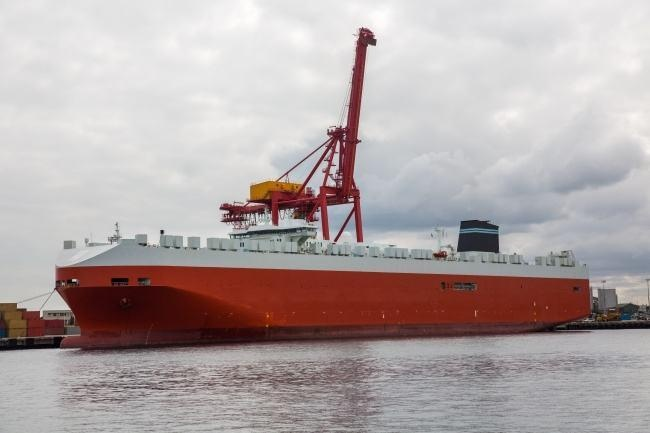Cargoship: (50, 158, 599, 342)
